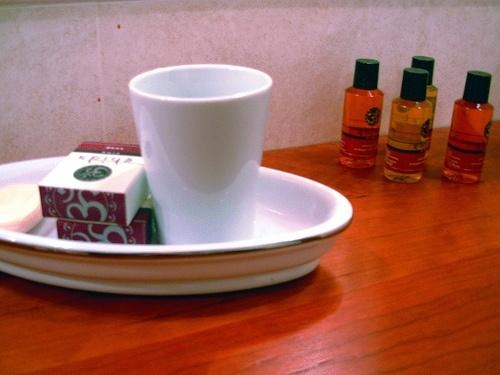bottle: (383, 68, 436, 184), (443, 71, 493, 186), (339, 59, 386, 170), (412, 56, 439, 158)
